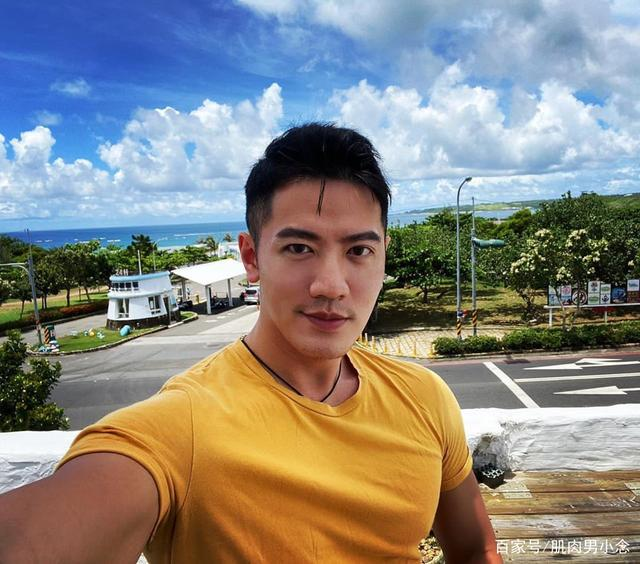person: (123, 116, 483, 564)
